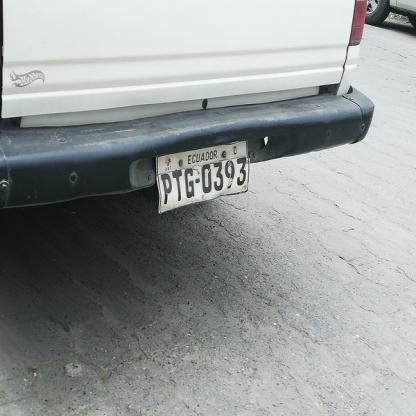Placa: (146, 133, 256, 216)
